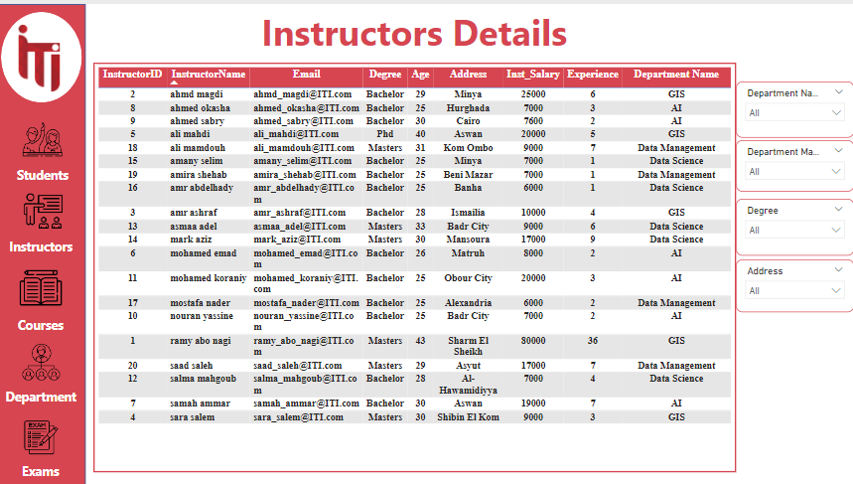

What the dashboard file says about the page in this screenshot:
{"tool":"powerbi","page":{"name":"Instructors Details","canvas":[1280,720],"ordinal":16},"visuals":[{"type":"textbox","box":[364.3,0,517.1,88.6],"z":0},{"type":"image","box":[7.2,272.1,119.5,72],"z":0,"group":"g1"},{"type":"shape","box":[0,0,131,720],"z":1000},{"type":"image","box":[5.7,167,121,69.1],"z":1000,"group":"g1"},{"type":"shape","box":[4.3,11.5,121,135.4],"z":2000},{"type":"textbox","box":[11.5,236.1,109.4,36],"z":2000,"group":"g1"},{"type":"image","box":[0,11.5,125.3,123.8],"z":3000},{"type":"textbox","box":[1.4,344.1,125.3,43.2],"z":3000,"group":"g1"},{"type":"tableEx","fields":{"Values":["Dim_Instructor.InstructorID","Dim_Instructor.InstructorName","Dim_Instructor.Inst_Email","Dim_Instructor.Inst_Degree","Sum(Dim_Instructor.Inst_Age)","Dim_Instructor.Inst_Address","Sum(Dim_Instructor.Inst_Salary)","Sum(Dim_Instructor.Inst_Experience)","Dim_Department.Dept_Name"]},"box":[142,87.8,961.5,611.7],"z":4000},{"type":"image","box":[1.4,387.3,125.3,73.4],"z":4000,"group":"g1"},{"type":"slicer","fields":{"Values":["Dim_Department.Dept_ManagerID"]},"box":[1103,203.4,176.7,77.2],"z":5000},{"type":"image","box":[1.4,613.4,125.3,66.2],"z":5000,"group":"g1"},{"type":"slicer","fields":{"Values":["Dim_Department.Dept_Name"]},"box":[1102.7,115.3,177.3,83.6],"z":6000},{"type":"textbox","box":[1.4,460.8,123.8,43.2],"z":6000,"group":"g1"},{"type":"slicer","fields":{"Values":["Dim_Instructor.Inst_Degree"]},"box":[1103,291,176.7,84.6],"z":7000},{"type":"textbox","box":[1.4,679.6,123.8,40.3],"z":7000,"group":"g1"},{"type":"slicer","fields":{"Values":["Dim_Instructor.Inst_Address"]},"box":[1103,381.5,176.7,78.7],"z":8000},{"type":"image","box":[1.4,501.1,125.3,66.2],"z":8000,"group":"g1"},{"type":"group","id":"g1","title":"Group 1","box":[1.4,167,125.3,553],"z":9000},{"type":"textbox","box":[1.4,567.3,125.3,46.1],"z":9000,"group":"g1"}]}

Visuals, with their boxes on the page's 1280x720 design canvas (x1, y1, x2, y2). These are canvas units, not pixel positions in the 853x484 screenshot, which may show the page scaled, cropped or inside an application window:
textbox: bbox(364, 0, 881, 89)
image: bbox(7, 272, 127, 344)
shape: bbox(0, 0, 131, 720)
image: bbox(6, 167, 127, 236)
shape: bbox(4, 12, 125, 147)
textbox: bbox(12, 236, 121, 272)
image: bbox(0, 12, 125, 135)
textbox: bbox(1, 344, 127, 387)
tableEx - Dim_Instructor.InstructorID x Dim_Instructor.InstructorName: bbox(142, 88, 1104, 700)
image: bbox(1, 387, 127, 461)
slicer - Dim_Department.Dept_ManagerID: bbox(1103, 203, 1280, 281)
image: bbox(1, 613, 127, 680)
slicer - Dim_Department.Dept_Name: bbox(1103, 115, 1280, 199)
textbox: bbox(1, 461, 125, 504)
slicer - Dim_Instructor.Inst_Degree: bbox(1103, 291, 1280, 376)
textbox: bbox(1, 680, 125, 720)
slicer - Dim_Instructor.Inst_Address: bbox(1103, 382, 1280, 460)
image: bbox(1, 501, 127, 567)
"Group 1" group: bbox(1, 167, 127, 720)
textbox: bbox(1, 567, 127, 613)
